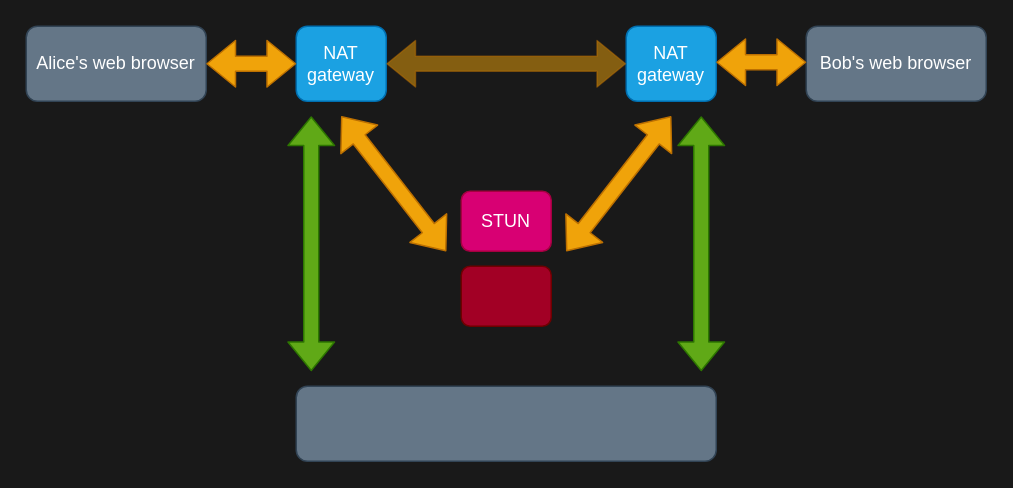
This 1013x488 diagram has some shape labels left out. Here are the shapes that lost their labels. From the top down, the centre of each, then its label:
the point at 505,295: TURN
the point at 505,423: Web server
